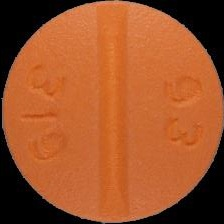50436-6124: (0, 0, 224, 224)
